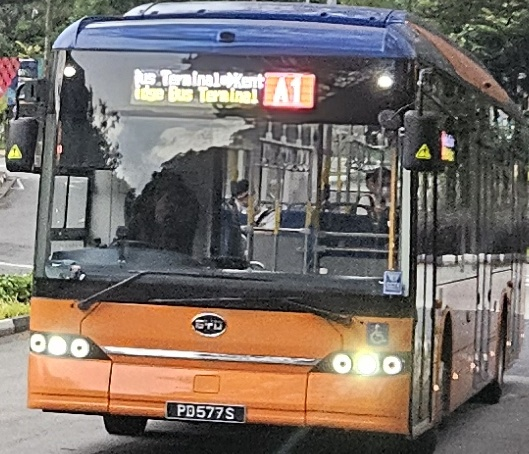bus: (259, 71, 310, 110)
